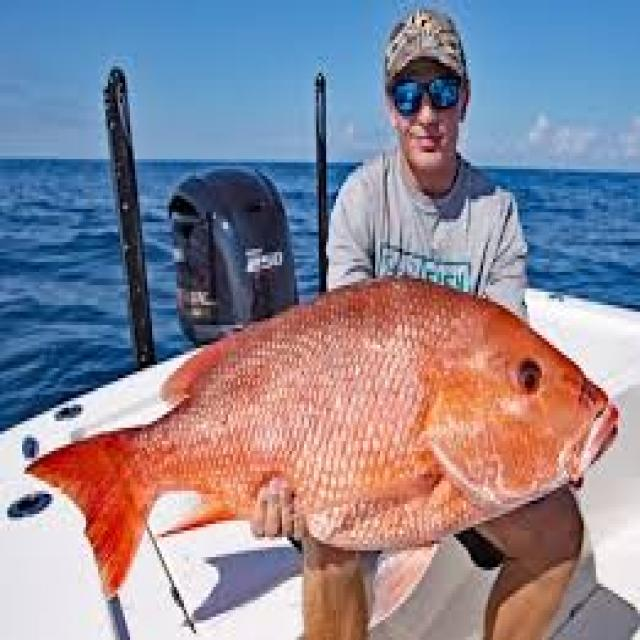northern-red-snapper: (27, 263, 627, 602)
